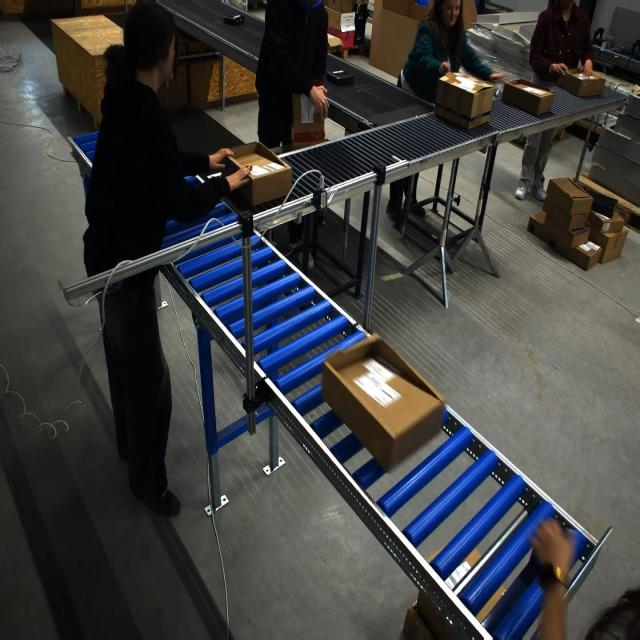box: (329, 348, 439, 464), (225, 141, 292, 208), (433, 70, 495, 130), (290, 92, 323, 147)
product: (328, 68, 355, 86), (223, 13, 245, 25)
